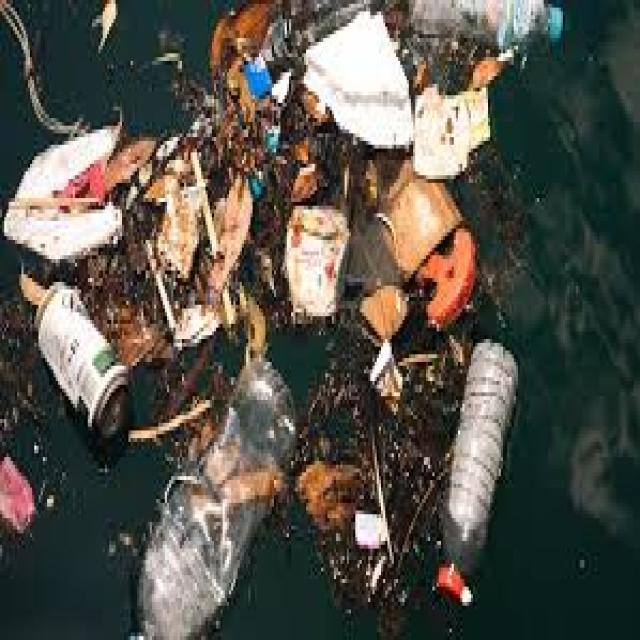plasticbottle: (120, 343, 304, 640), (416, 325, 526, 608), (15, 274, 148, 476), (396, 0, 586, 76)
thermocoal: (292, 10, 427, 182)
wood: (121, 104, 271, 308), (404, 80, 500, 200)
